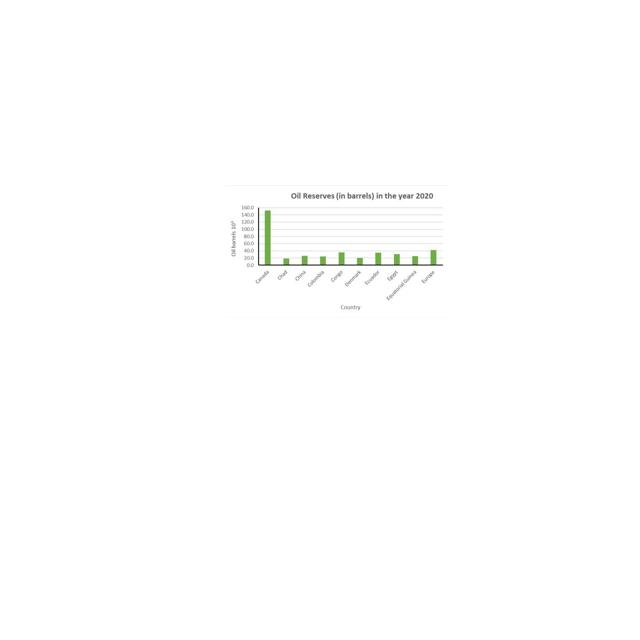Graph: (225, 185, 449, 318)
